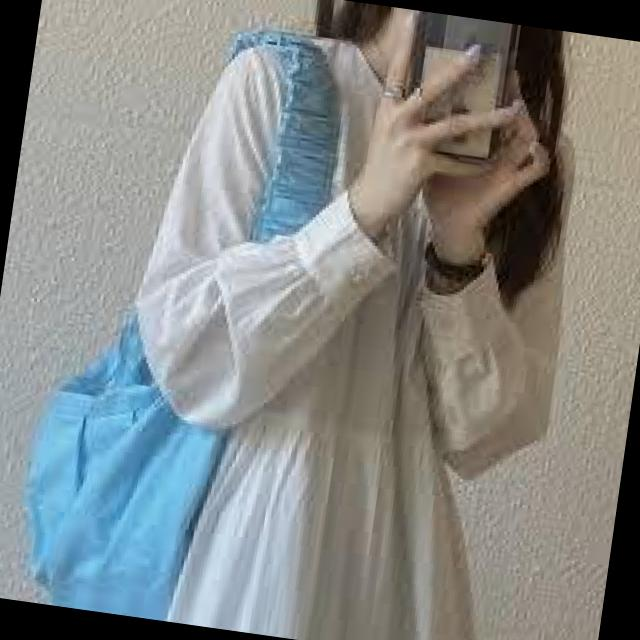dress: (121, 34, 588, 640)
